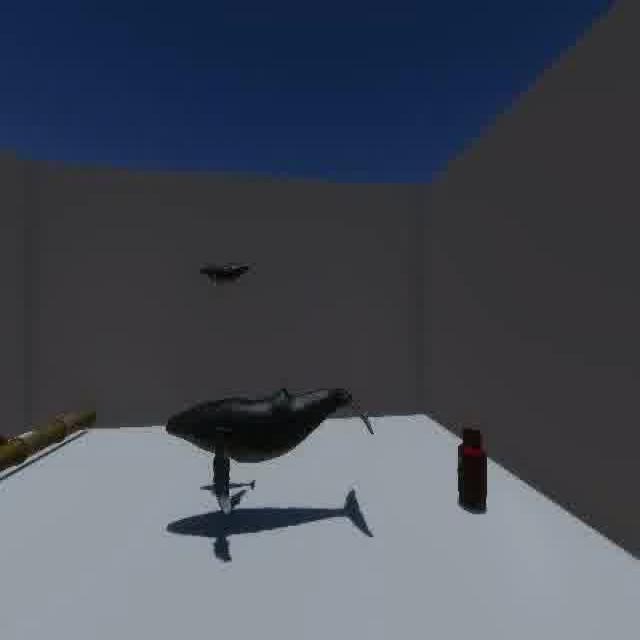Cylinder: (450, 414, 504, 524)
Pipe: (0, 382, 104, 479)
Whale: (158, 370, 382, 527), (190, 249, 255, 287)
